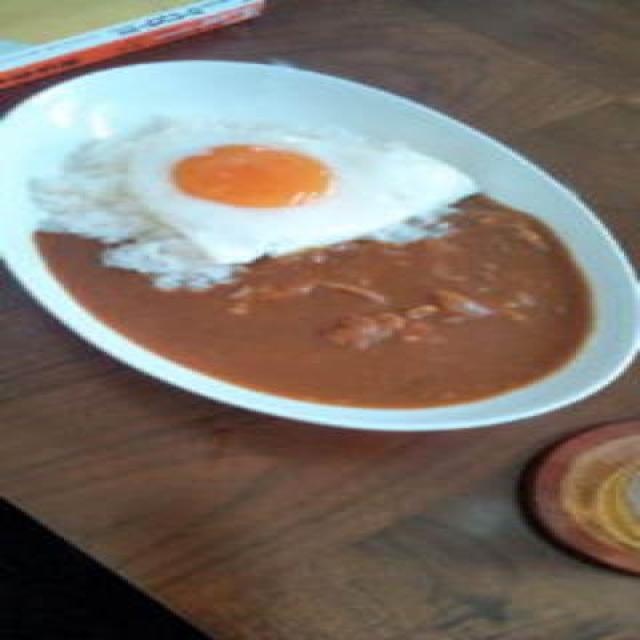Beef Curry: (233, 232, 572, 399)
Egg: (144, 132, 444, 254)
